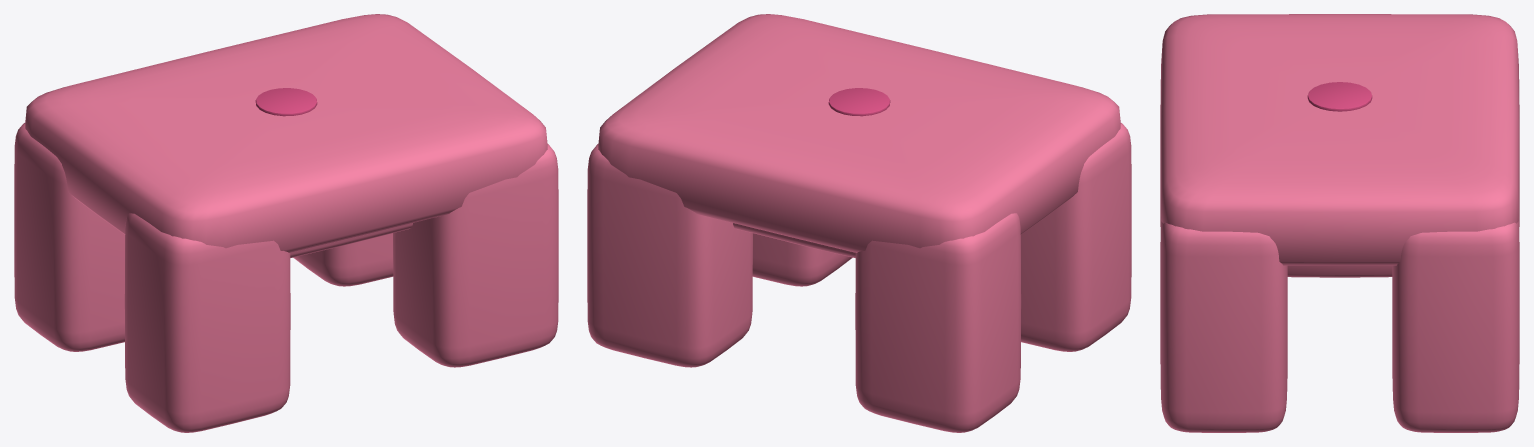
File: banquinho_degrau_rosa.glb
3 views of the same model, side by side, from view 1: azimuth 30°, elevation 25°; view 2: azimuth 150°, elevation 25°; view 3: azimuth 270°, elevation 25° (orthographic). The views are drawn at different scales.
Visible parts, largest first — view 1: banquinho_degrau_rosa; view 2: banquinho_degrau_rosa; view 3: banquinho_degrau_rosa.
Part boxes in pixels (<box>): banquinho_degrau_rosa: <box>14,14,558,432</box>; banquinho_degrau_rosa: <box>587,14,1131,432</box>; banquinho_degrau_rosa: <box>1160,14,1519,432</box>.
Bounding box in the file's own units: 0.41 × 0.2325 × 0.31.
1 material, 1 textured.
